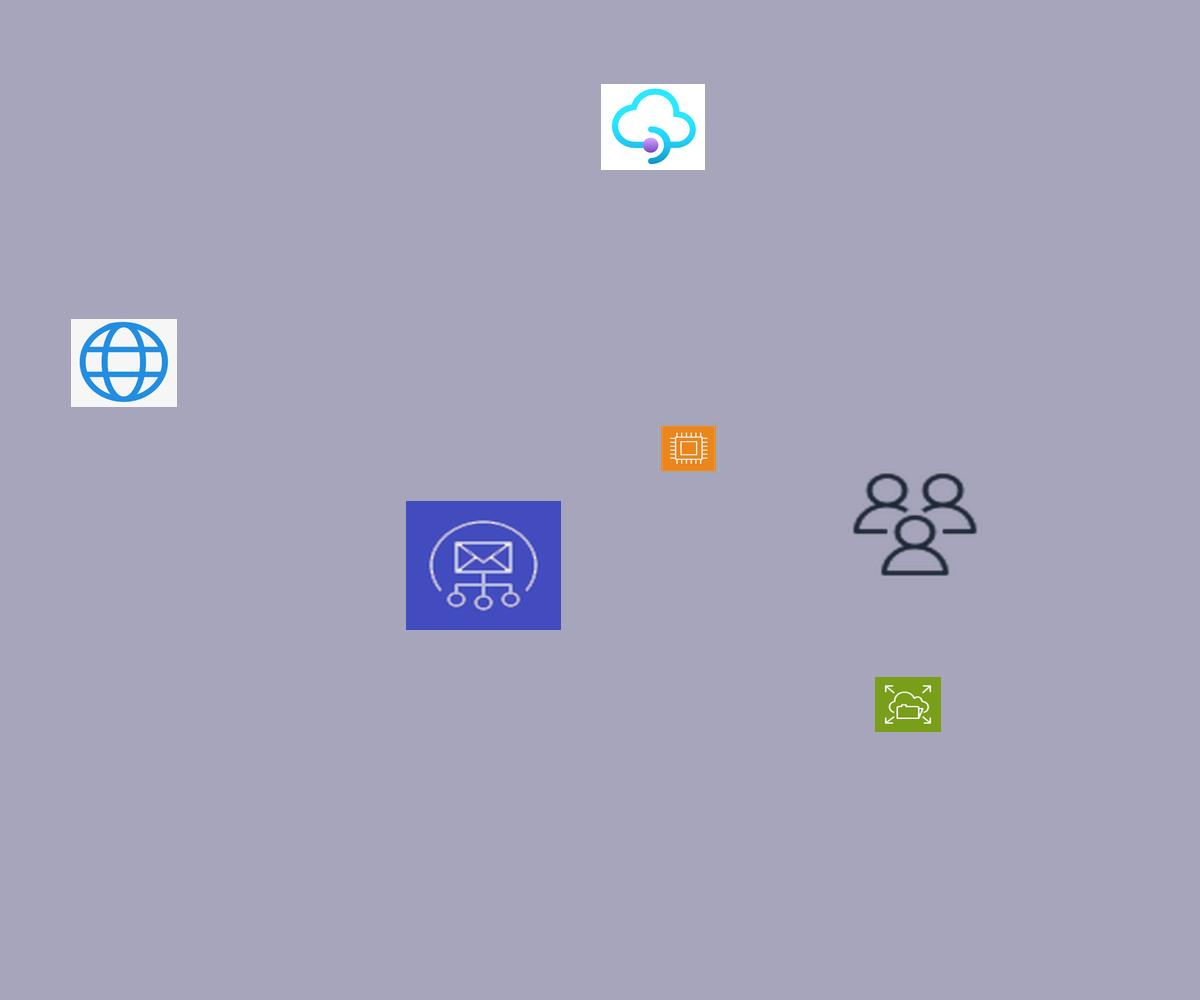AWS-Category_Compute: (658, 423, 719, 474)
AWS-EFS: (875, 677, 941, 732)
AWS-Res_Users: (848, 469, 982, 580)
AWS-Simple-Email-Service: (406, 501, 561, 630)
Azure_api_gateway: (601, 84, 705, 170)
Azure_http: (71, 319, 177, 407)
